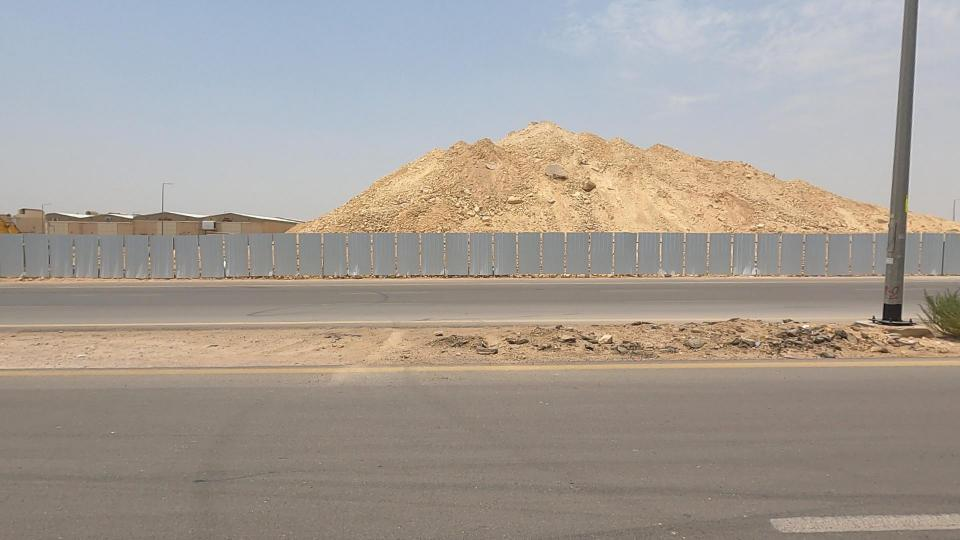CLUTTER_SIDEWALK: (301, 278, 762, 401), (606, 274, 947, 392)
